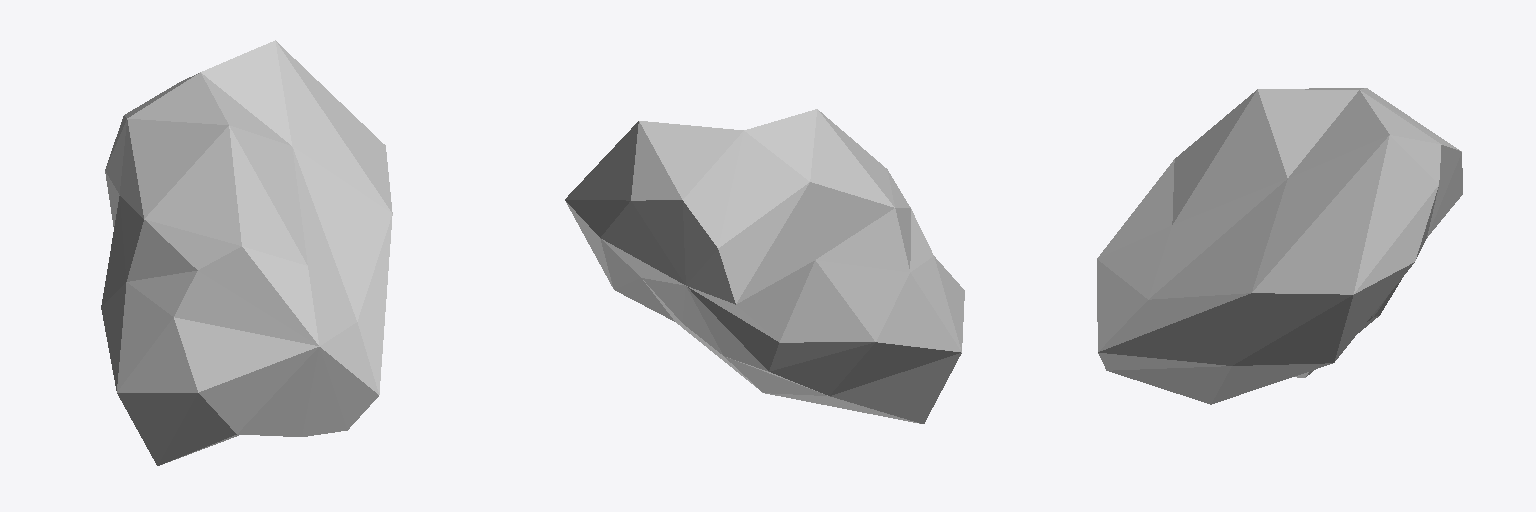
Rendered from asteroid2.obj.
The picture shows the model from 3 angles: view 1: azimuth 30°, elevation 25°; view 2: azimuth 150°, elevation 25°; view 3: azimuth 270°, elevation 25°; orthographic projection.
Parts seen in each view (by area): view 1: Sphere001.004; view 2: Sphere001.004; view 3: Sphere001.004.
Part boxes in pixels (x1,y1,x2,y2): Sphere001.004: (101, 40, 392, 465); Sphere001.004: (565, 109, 964, 423); Sphere001.004: (1097, 88, 1462, 404).
Size of the model in its own units: 0.5217 by 0.4741 by 0.4964.